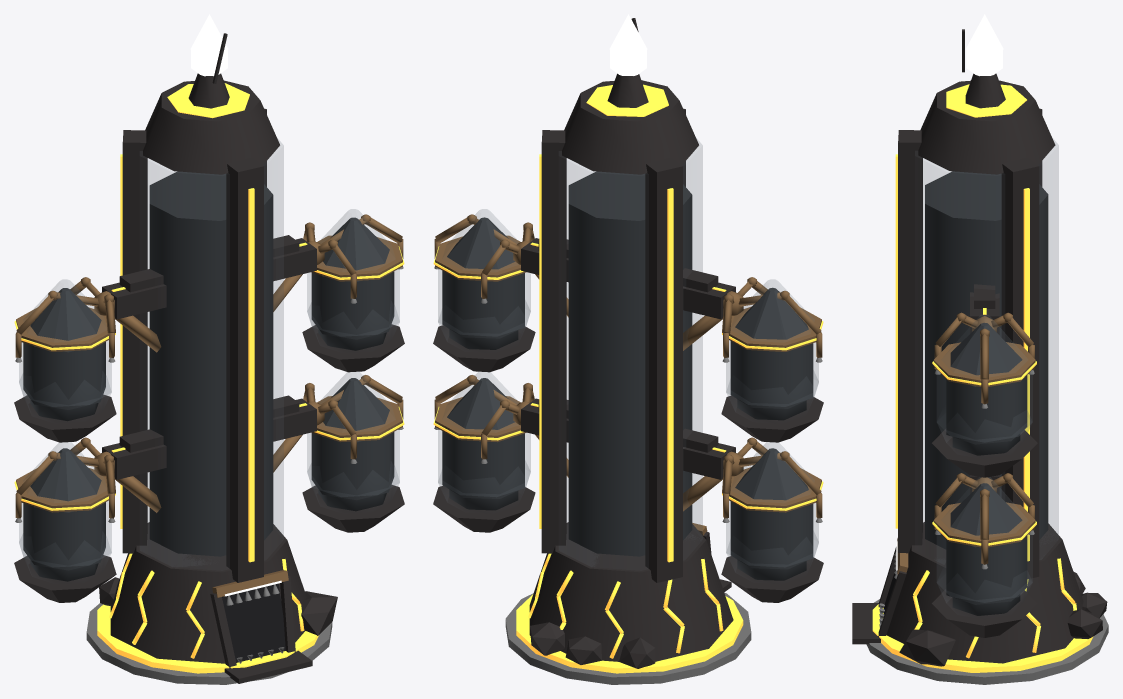
The model's file is EMBER_Vat_T4.glb.
The picture shows the model from 3 angles, left to right: view 1: azimuth 30°, elevation 25°; view 2: azimuth 150°, elevation 25°; view 3: azimuth 270°, elevation 25°; orthographic projection.
Parts seen in each view (by area): view 1: EMBER_Vat_T4; view 2: EMBER_Vat_T4; view 3: EMBER_Vat_T4.
Boxes of the visible parts, x1,y1,x2,y2 form: EMBER_Vat_T4: (14,14,404,684); EMBER_Vat_T4: (433,14,823,684); EMBER_Vat_T4: (852,14,1108,684).
Size of the model in its own units: 6.32 by 9.64 by 3.62.
